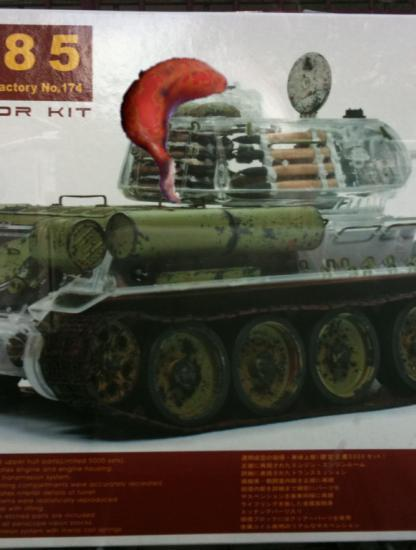Banana: (103, 52, 242, 191)
